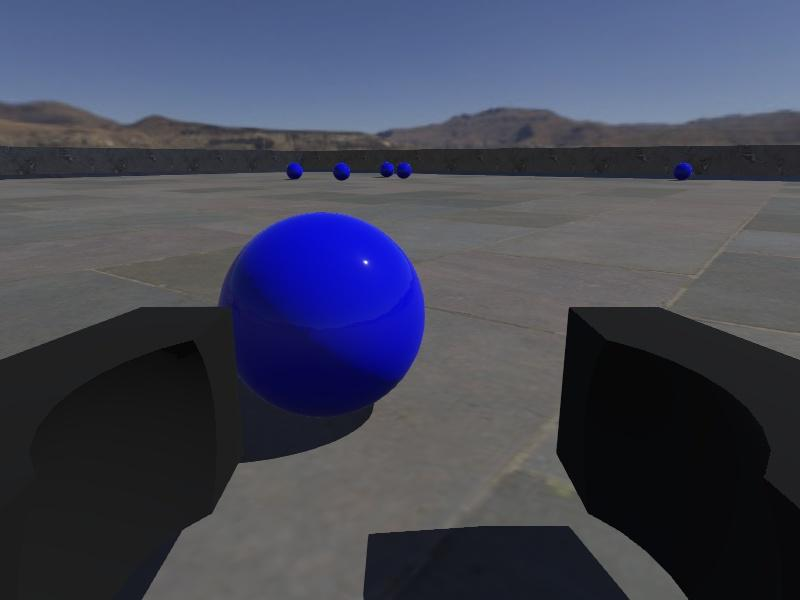blue ball: (332, 162, 352, 181), (673, 161, 692, 180), (285, 162, 305, 180), (395, 160, 413, 179), (378, 161, 396, 178)
